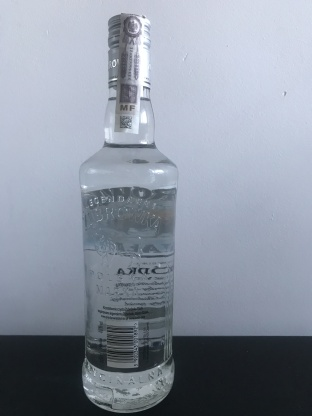nakretka: (104, 8, 153, 93)
